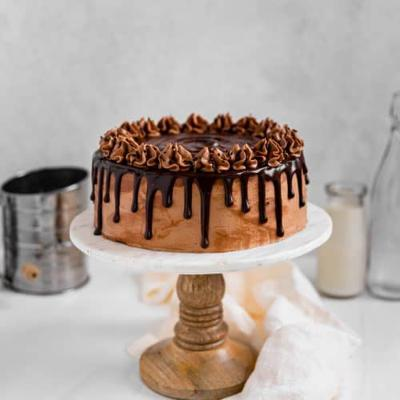cake: (87, 111, 318, 257)
